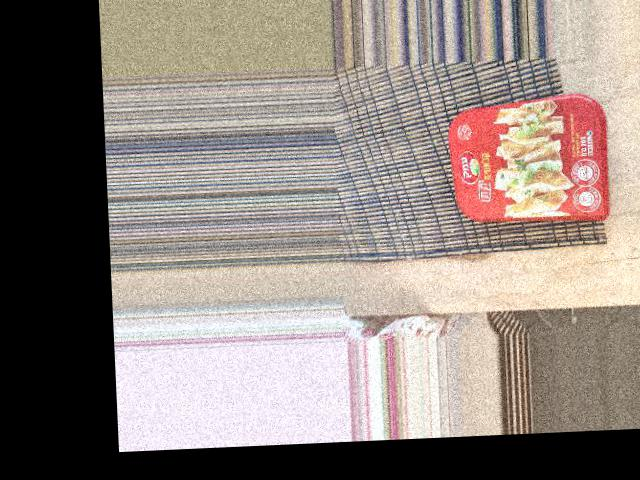cheese: (377, 44, 520, 220)
